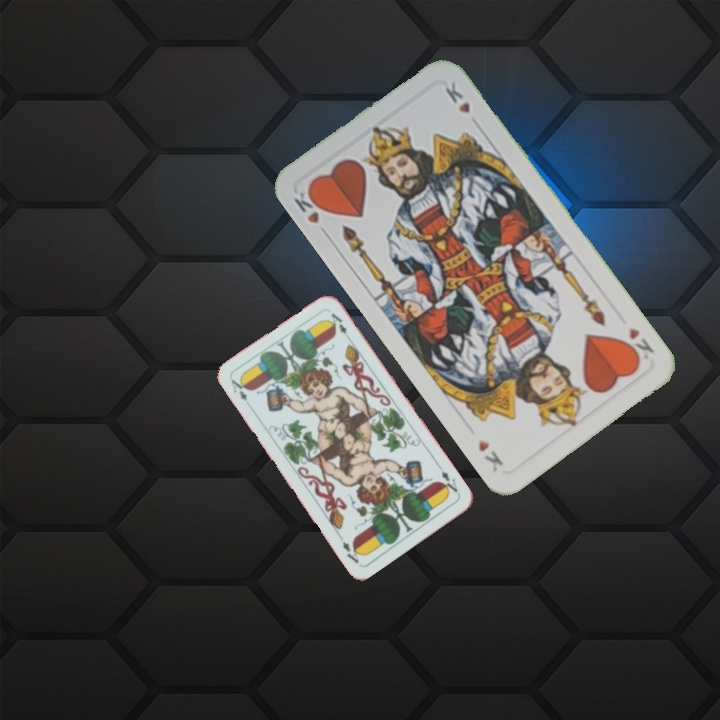EA: (436, 467, 462, 497), (227, 374, 251, 404)
HK: (290, 182, 332, 240), (619, 323, 657, 367)
